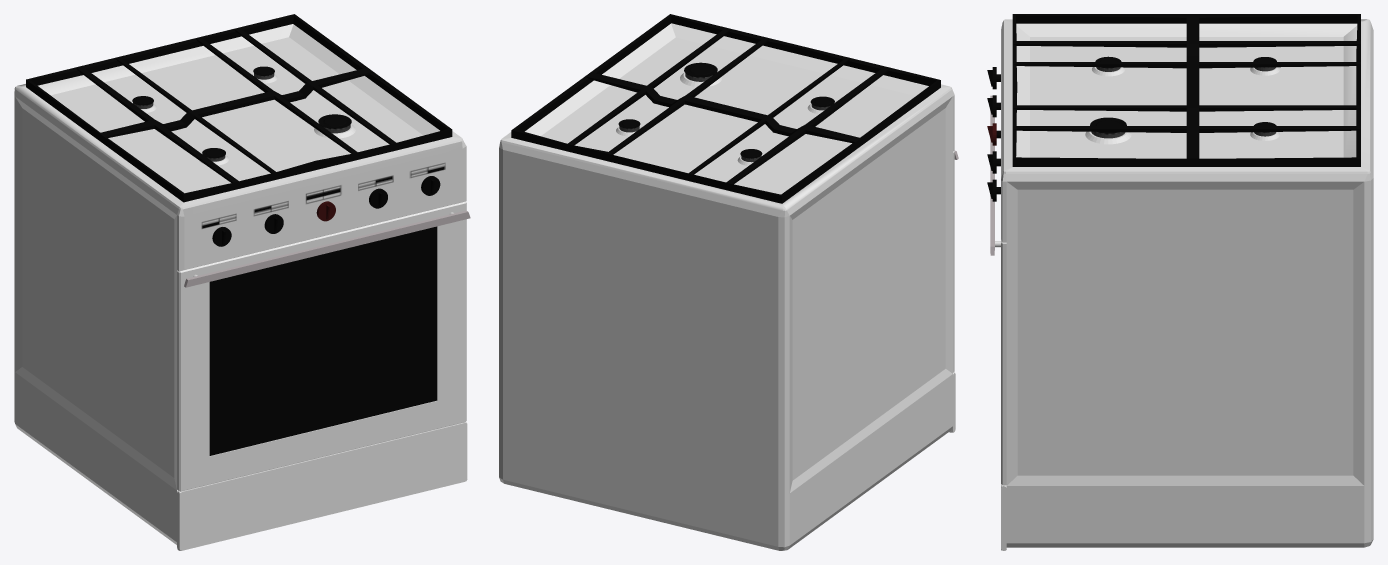
File: Friture.fbx
3 renders of one model, left to right at view 1: azimuth 30°, elevation 25°; view 2: azimuth 150°, elevation 25°; view 3: azimuth 270°, elevation 25°, orthographic. The views are drawn at different scales.
Parts seen in each view (by area): view 1: Friture_Baked; view 2: Friture_Baked; view 3: Friture_Baked.
Part boxes in pixels (<box>): Friture_Baked: <box>14,14,470,550</box>; Friture_Baked: <box>499,14,958,550</box>; Friture_Baked: <box>987,14,1373,550</box>.
Size of the model in its own units: 80 by 93.08 by 84.21.
